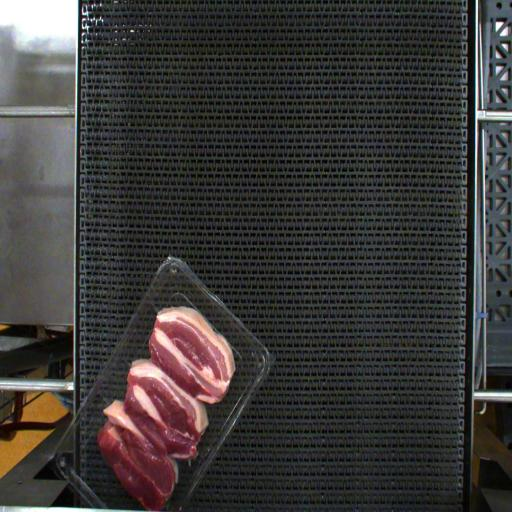packaging-error: (148, 298, 160, 314)
